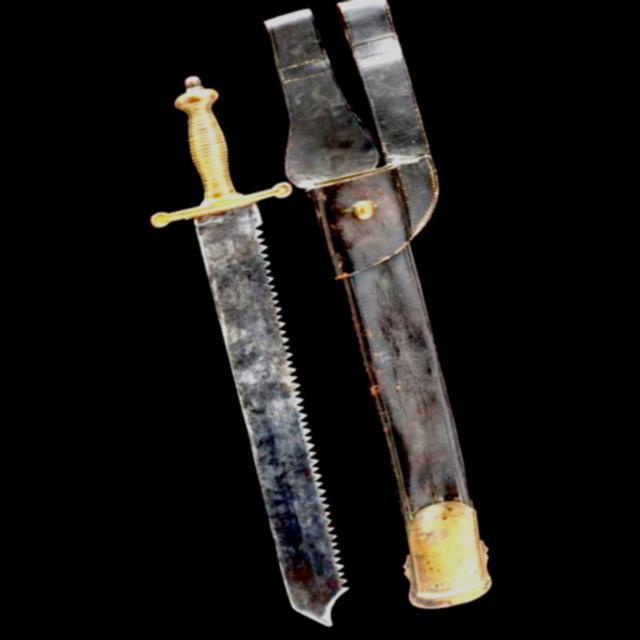short sword: (99, 45, 392, 640)
